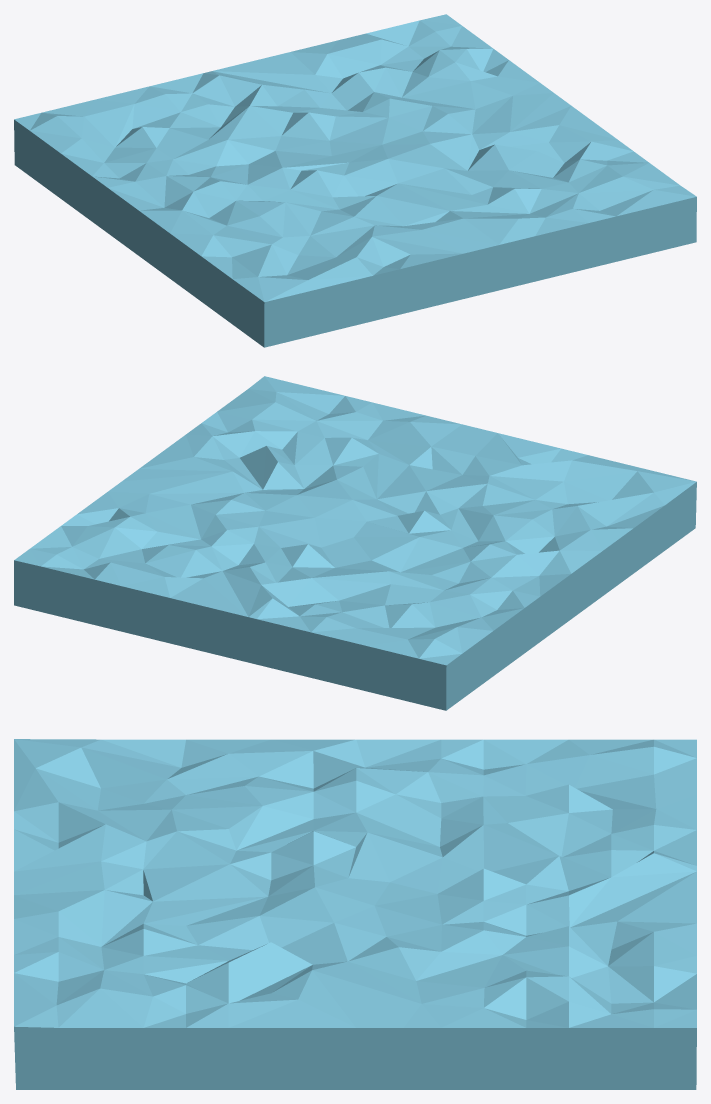
Rendered from sea-triangles.fbx.
3 views of the same model, one above another, from view 1: azimuth 30°, elevation 25°; view 2: azimuth 150°, elevation 25°; view 3: azimuth 270°, elevation 25° (orthographic). The views are drawn at different scales.
Parts seen in each view (by area): view 1: Plane; view 2: Plane; view 3: Plane.
Boxes of the visible parts, <box> form: Plane: <box>14,14,696,347</box>; Plane: <box>14,376,696,710</box>; Plane: <box>14,739,696,1089</box>.
Bounding box in the file's own units: 100117 × 12809 × 100381.
